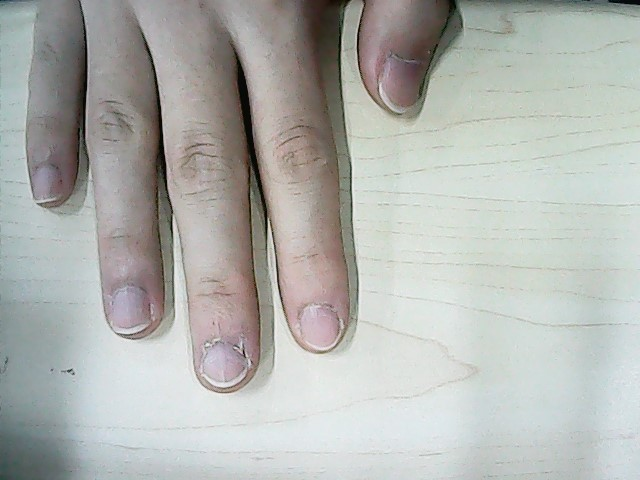nail: (382, 56, 421, 117), (201, 344, 248, 388), (109, 287, 150, 335), (299, 306, 339, 352), (28, 169, 62, 203)
